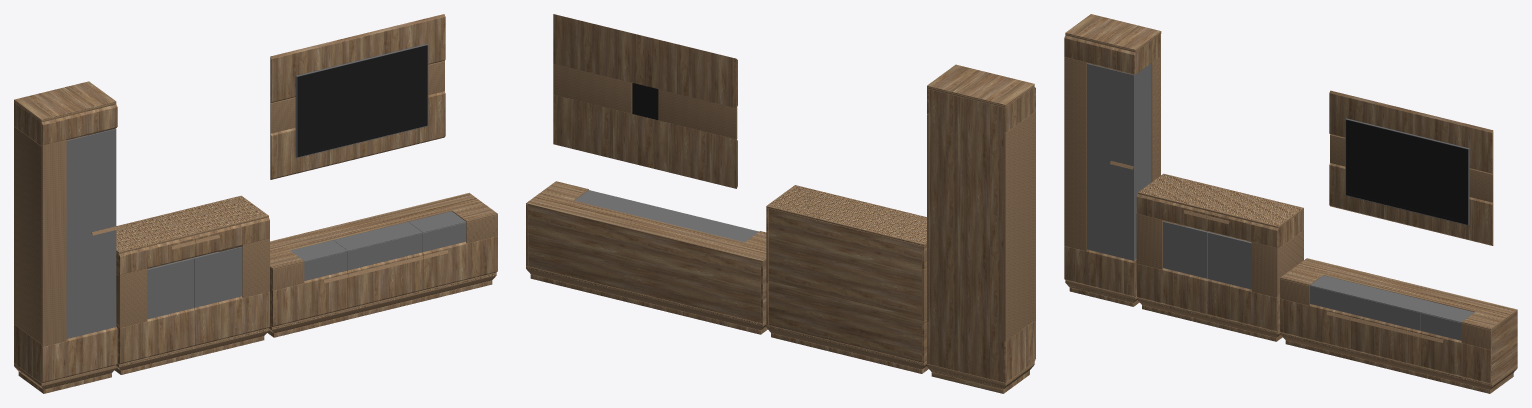
Rendered from shkaf 11.glb.
3 renders of one model, left to right at view 1: azimuth 30°, elevation 25°; view 2: azimuth 150°, elevation 25°; view 3: azimuth 330°, elevation 25°, orthographic. The views are drawn at different scales.
Parts seen in each view (by area): view 1: Rectangle003, Box217360, Object1147, Box217342, Box217355, Box217363, Box217345, Object1134, Object1135, Box217388, Box217386, Box217346 (+15 smaller); view 2: Box217355, Box217365, Object1147, Box217379, Box217342, Box217363, Box217388, Box217391, Box217392, Box217390, Box217377, Group2069532648 (+1 smaller); view 3: Rectangle003, Box217360, Object1147, Box217363, Box217355, Box217345, Object1135, Object1134, Box217388, Box217386, Box217346, Object1139 (+17 smaller).
Part boxes in pixels (x1=…): Rectangle003: x1=297, y1=45, x2=427, y2=154; Box217360: x1=66, y1=128, x2=116, y2=338; Object1147: x1=270, y1=14, x2=445, y2=179; Box217342: x1=14, y1=101, x2=116, y2=389; Box217355: x1=14, y1=81, x2=117, y2=393; Box217363: x1=116, y1=195, x2=268, y2=370; Box217345: x1=41, y1=139, x2=66, y2=346; Object1134: x1=119, y1=235, x2=194, y2=364; Object1135: x1=194, y1=217, x2=269, y2=346; Box217388: x1=270, y1=193, x2=497, y2=269; Box217386: x1=304, y1=222, x2=466, y2=280; Box217346: x1=41, y1=326, x2=117, y2=383; Box217355: x1=927, y1=64, x2=1035, y2=393; Box217365: x1=766, y1=208, x2=928, y2=373; Object1147: x1=553, y1=14, x2=737, y2=188; Box217379: x1=528, y1=205, x2=767, y2=334; Box217342: x1=927, y1=85, x2=1034, y2=389; Box217363: x1=766, y1=185, x2=926, y2=369; Box217388: x1=526, y1=181, x2=766, y2=261; Box217391: x1=553, y1=63, x2=632, y2=113; Box217392: x1=658, y1=89, x2=737, y2=139; Box217390: x1=574, y1=190, x2=758, y2=242; Box217377: x1=526, y1=266, x2=766, y2=330; Group2069532648: x1=632, y1=83, x2=658, y2=120; Rectangle003: x1=1346, y1=120, x2=1467, y2=222; Box217360: x1=1087, y1=63, x2=1134, y2=260; Object1147: x1=1329, y1=90, x2=1493, y2=245; Box217363: x1=1138, y1=173, x2=1303, y2=337; Box217355: x1=1064, y1=14, x2=1161, y2=306; Box217345: x1=1064, y1=57, x2=1087, y2=251; Object1135: x1=1207, y1=211, x2=1278, y2=331; Object1134: x1=1136, y1=194, x2=1207, y2=314; Box217388: x1=1280, y1=258, x2=1517, y2=329; Box217386: x1=1310, y1=286, x2=1461, y2=340; Box217346: x1=1064, y1=246, x2=1135, y2=296; Object1139: x1=1420, y1=331, x2=1491, y2=383.
Bounding box in the file's own units: 3.66 × 2.12 × 0.4124.
Materials: 6 (1 with a texture image).
